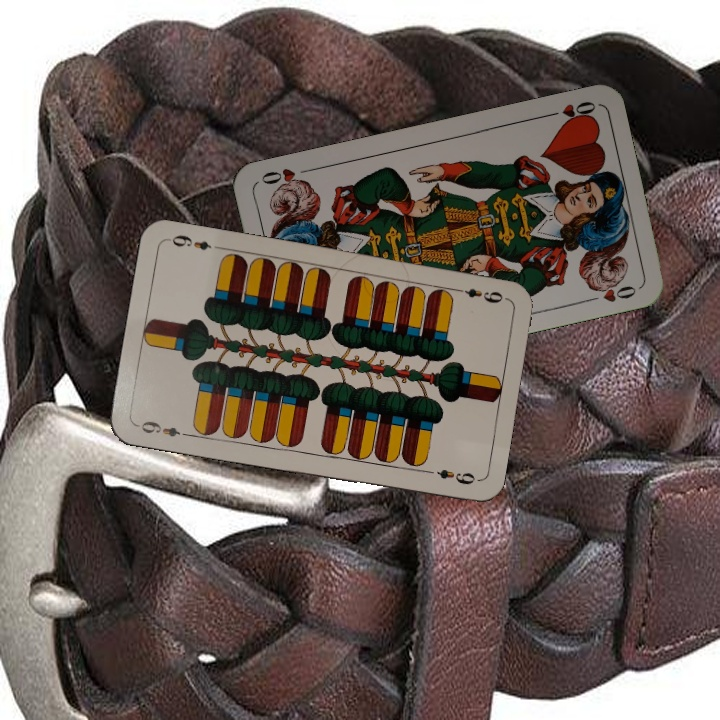E9: (133, 416, 192, 440), (450, 284, 509, 306)
HO: (539, 97, 598, 127)
